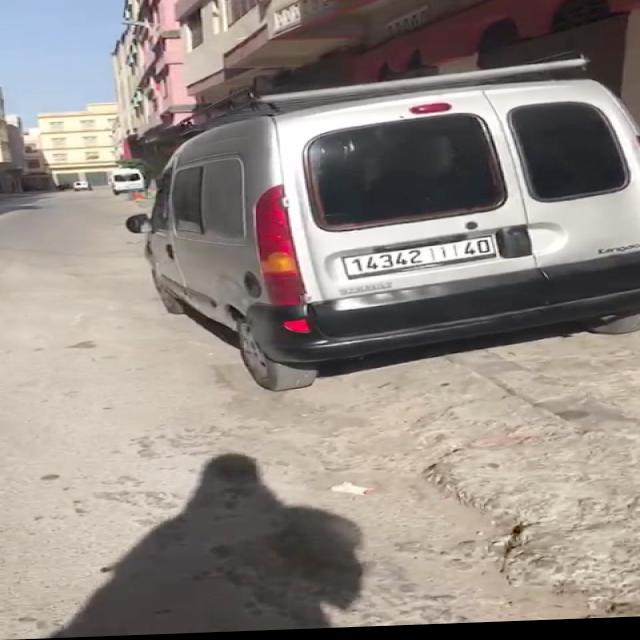License-Plate: (343, 240, 495, 281)
